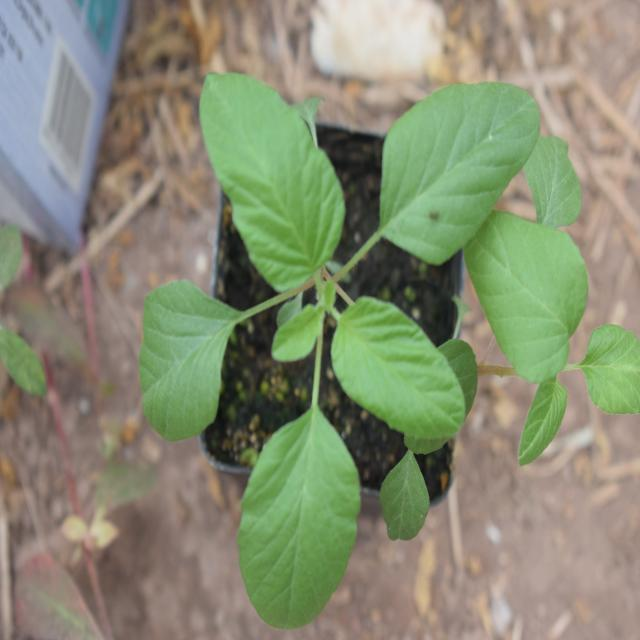pigweed: (134, 53, 506, 572)
